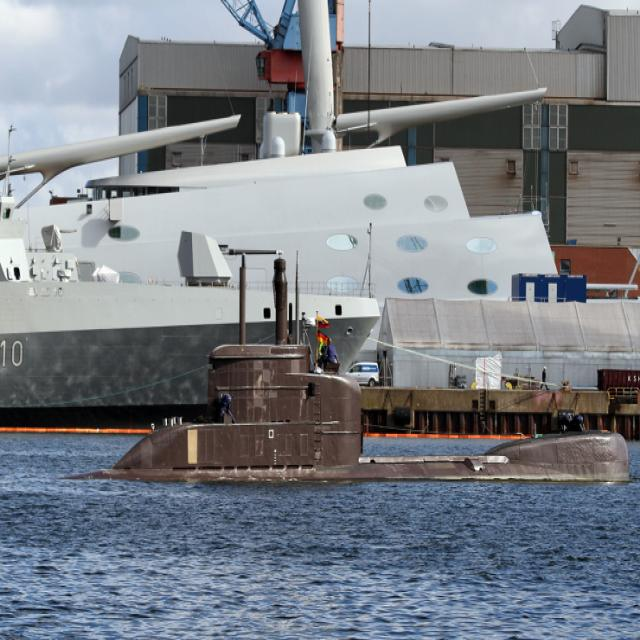submarine: (65, 253, 640, 486)
